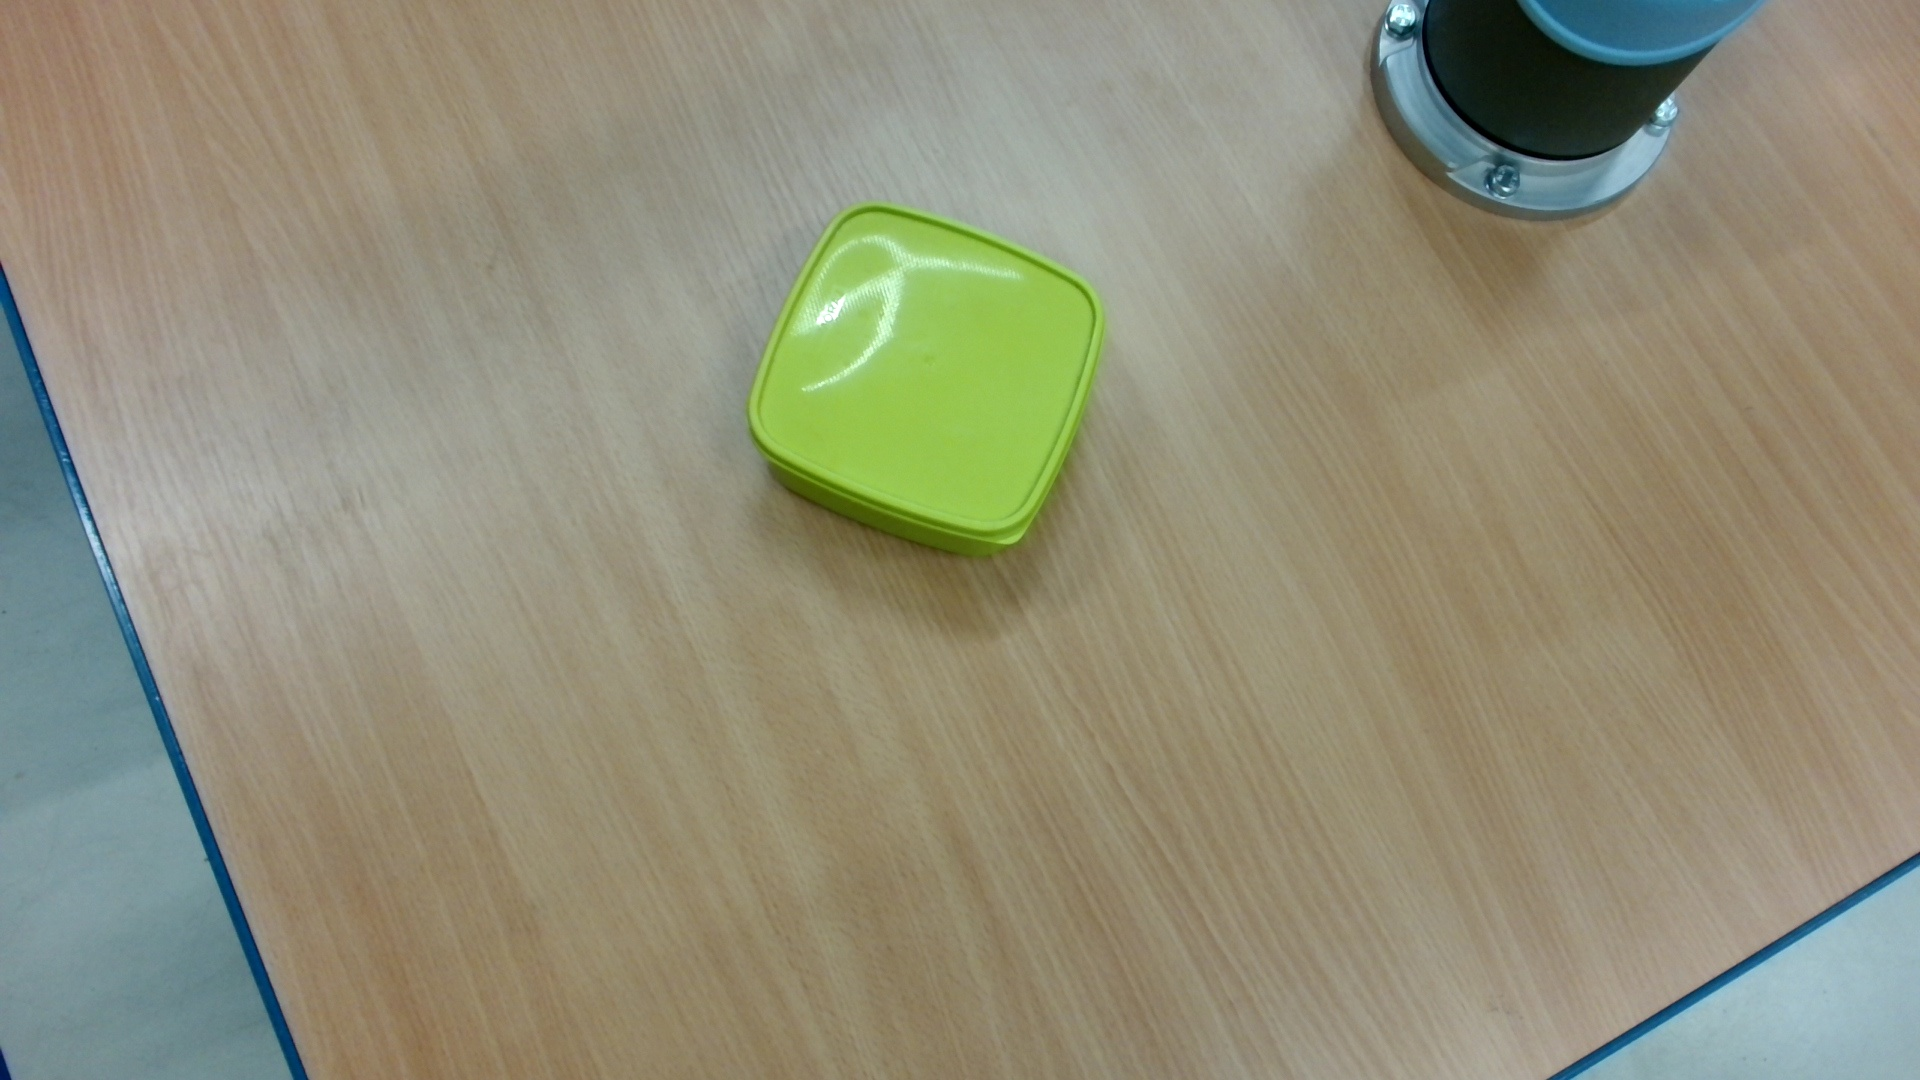Box: (742, 196, 1112, 564)
